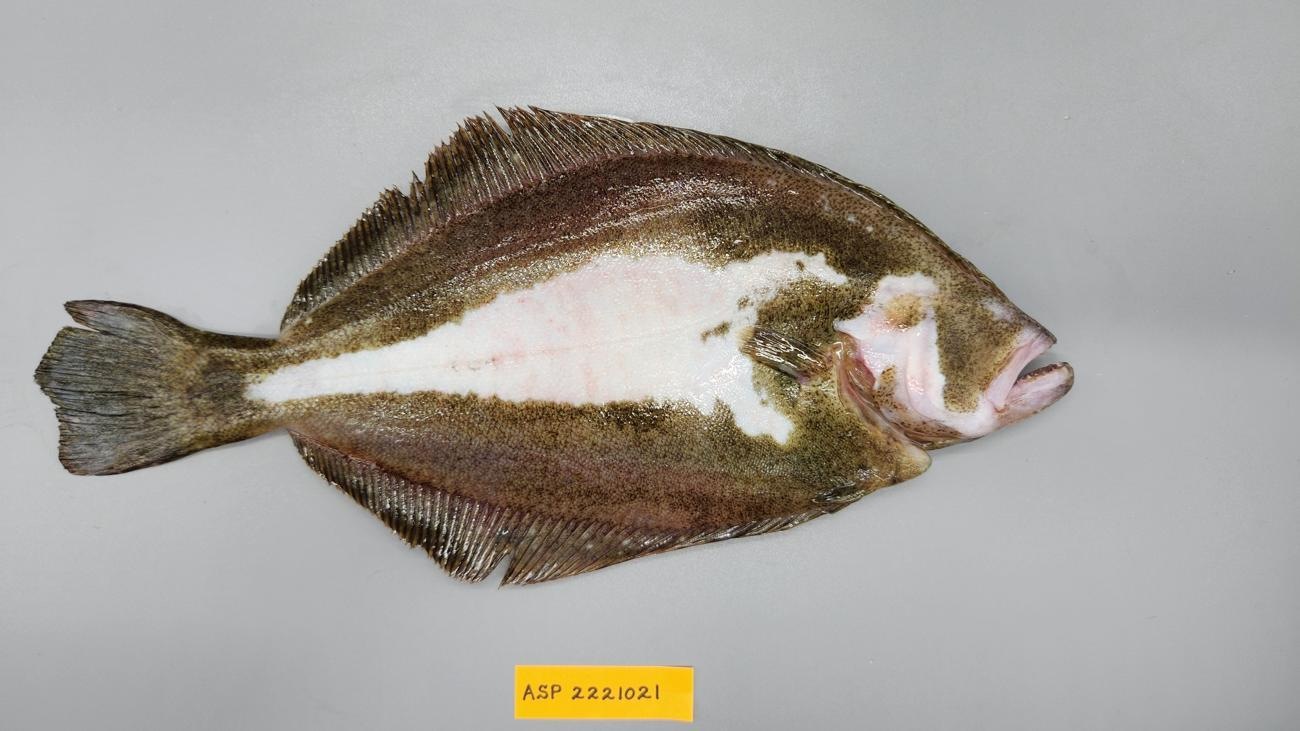SPDYH: (759, 297, 832, 383)
SPFCH: (56, 301, 193, 475)
SPOUY: (27, 97, 1082, 598)
